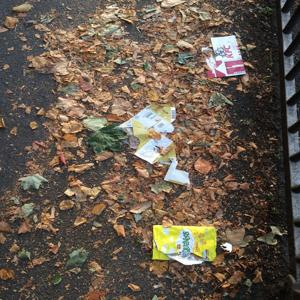cardboard: (104, 101, 205, 191), (147, 217, 229, 270), (201, 33, 253, 87)
